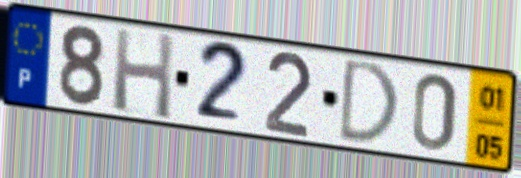0: (409, 70, 461, 156)
2: (191, 38, 253, 134), (263, 50, 314, 141)
8: (56, 22, 109, 109)
D: (335, 56, 402, 147)
H: (110, 25, 177, 123)
